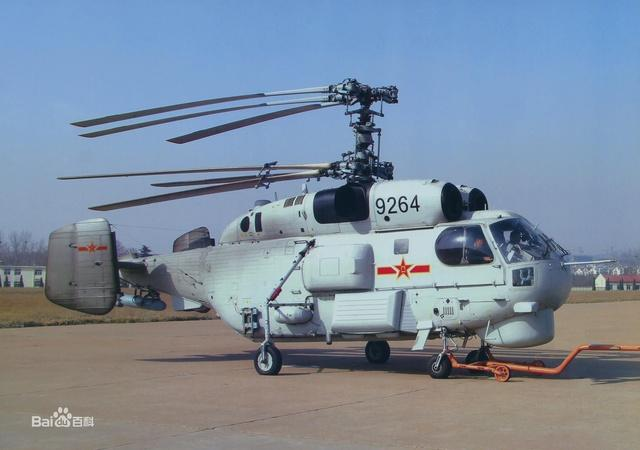airplane: (36, 77, 599, 381)
